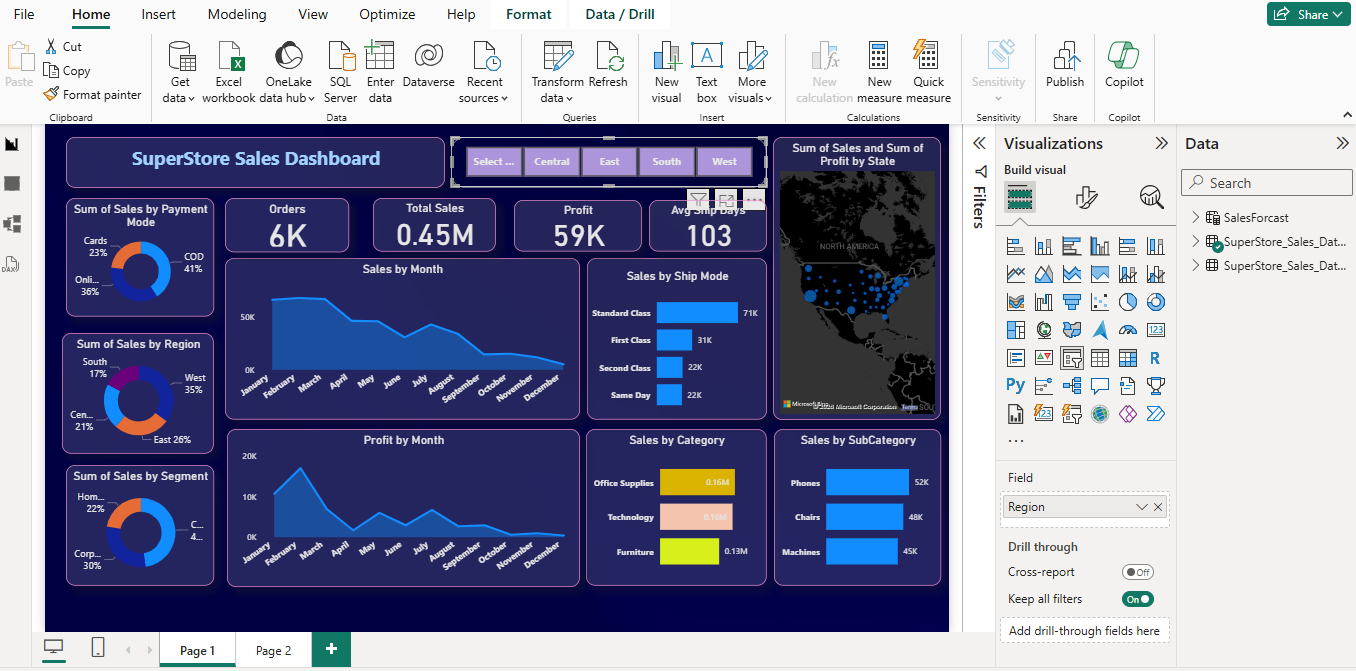

What the dashboard file says about the page in this screenshot:
{"tool":"powerbi","page":{"name":"Page 1","canvas":[1280,720],"ordinal":0},"visuals":[{"type":"clusteredBarChart","title":"Sales by Category","fields":{"Category":["SuperStore_Sales_Dataset.Category"],"Y":["Sum(SuperStore_Sales_Dataset.Sales)"]},"box":[766.7,432.1,256.4,221.8],"z":0},{"type":"clusteredBarChart","title":"Sales by SubCategory","fields":{"Y":["Sum(SuperStore_Sales_Dataset.Sales)"],"Category":["SuperStore_Sales_Dataset.Sub-Category"]},"box":[1033.3,432.1,237.2,221.8],"z":1000},{"type":"clusteredBarChart","title":"Sales by Ship Mode","fields":{"Y":["Sum(SuperStore_Sales_Dataset.Sales)"],"Category":["SuperStore_Sales_Dataset.Ship Mode"]},"box":[767.9,189.7,255.1,229.5],"z":2000},{"type":"stackedAreaChart","title":"Sales by Month","fields":{"Y":["Sum(SuperStore_Sales_Dataset.Sales)"],"Category":["SuperStore_Sales_Dataset.Order Date.Variation.Date Hierarchy.Month","SuperStore_Sales_Dataset.Order Date.Variation.Date Hierarchy.Day"]},"box":[255.1,189.7,502.6,229.5],"z":3000},{"type":"stackedAreaChart","title":"Profit by Month","fields":{"Y":["Sum(SuperStore_Sales_Dataset.Profit)"],"Category":["SuperStore_Sales_Dataset.Order Date.Variation.Date Hierarchy.Month","SuperStore_Sales_Dataset.Order Date.Variation.Date Hierarchy.Day"]},"box":[257.7,432.1,500,224.4],"z":4000},{"type":"map","fields":{"Category":["SuperStore_Sales_Dataset.State"],"Size":["Sum(SuperStore_Sales_Dataset.Sales)"]},"box":[1032.1,17.9,238.5,401.3],"z":5000},{"type":"donutChart","fields":{"Category":["SuperStore_Sales_Dataset.Segment"],"Y":["Sum(SuperStore_Sales_Dataset.Sales)"]},"box":[29.5,483.3,210.3,170.5],"z":6000},{"type":"donutChart","fields":{"Y":["Sum(SuperStore_Sales_Dataset.Sales)"],"Category":["SuperStore_Sales_Dataset.Payment Mode"]},"box":[29.5,105.1,210.3,167.9],"z":7000},{"type":"slicer","fields":{"Values":["SuperStore_Sales_Dataset.Region"]},"box":[575.6,17.9,447.4,71.8],"z":8000},{"type":"textbox","box":[29.5,17.9,537.2,71.8],"z":9000},{"type":"card","title":"Total Sales","fields":{"Values":["Sum(SuperStore_Sales_Dataset.Sales)"]},"box":[465.4,105.1,174.4,75.6],"z":10000},{"type":"card","title":"Orders","fields":{"Values":["Sum(SuperStore_Sales_Dataset.Quantity)"]},"box":[255.1,105.1,175.6,76.9],"z":11000},{"type":"card","title":"Profit","fields":{"Values":["Sum(SuperStore_Sales_Dataset.Profit)"]},"box":[665.4,107.7,180.8,73.1],"z":12000},{"type":"card","title":"Avg Ship Days","fields":{"Values":["Avg(SuperStore_Sales_Dataset.AvgDelivery)"]},"box":[856.4,107.7,166.7,73.1],"z":13000},{"type":"donutChart","fields":{"Y":["Sum(SuperStore_Sales_Dataset.Sales)"],"Category":["SuperStore_Sales_Dataset.Region"]},"box":[24.4,296.2,215.4,170.5],"z":14000}]}

Visuals, with their boxes on the page's 1280x720 design canvas (x1, y1, x2, y2). These are canvas units, not pixel positions in the 1356x671 screenshot, which may show the page scaled, cropped or inside an application window:
"Sales by Category" clusteredBarChart: bbox(767, 432, 1023, 654)
"Sales by SubCategory" clusteredBarChart: bbox(1033, 432, 1270, 654)
"Sales by Ship Mode" clusteredBarChart: bbox(768, 190, 1023, 419)
"Sales by Month" stackedAreaChart: bbox(255, 190, 758, 419)
"Profit by Month" stackedAreaChart: bbox(258, 432, 758, 656)
map - SuperStore_Sales_Dataset.State x Sum(SuperStore_Sales_Dataset.Sales): bbox(1032, 18, 1271, 419)
donutChart - SuperStore_Sales_Dataset.Segment x Sum(SuperStore_Sales_Dataset.Sales): bbox(30, 483, 240, 654)
donutChart - Sum(SuperStore_Sales_Dataset.Sales) x SuperStore_Sales_Dataset.Payment Mode: bbox(30, 105, 240, 273)
slicer - SuperStore_Sales_Dataset.Region: bbox(576, 18, 1023, 90)
textbox: bbox(30, 18, 567, 90)
"Total Sales" card: bbox(465, 105, 640, 181)
"Orders" card: bbox(255, 105, 431, 182)
"Profit" card: bbox(665, 108, 846, 181)
"Avg Ship Days" card: bbox(856, 108, 1023, 181)
donutChart - Sum(SuperStore_Sales_Dataset.Sales) x SuperStore_Sales_Dataset.Region: bbox(24, 296, 240, 467)
